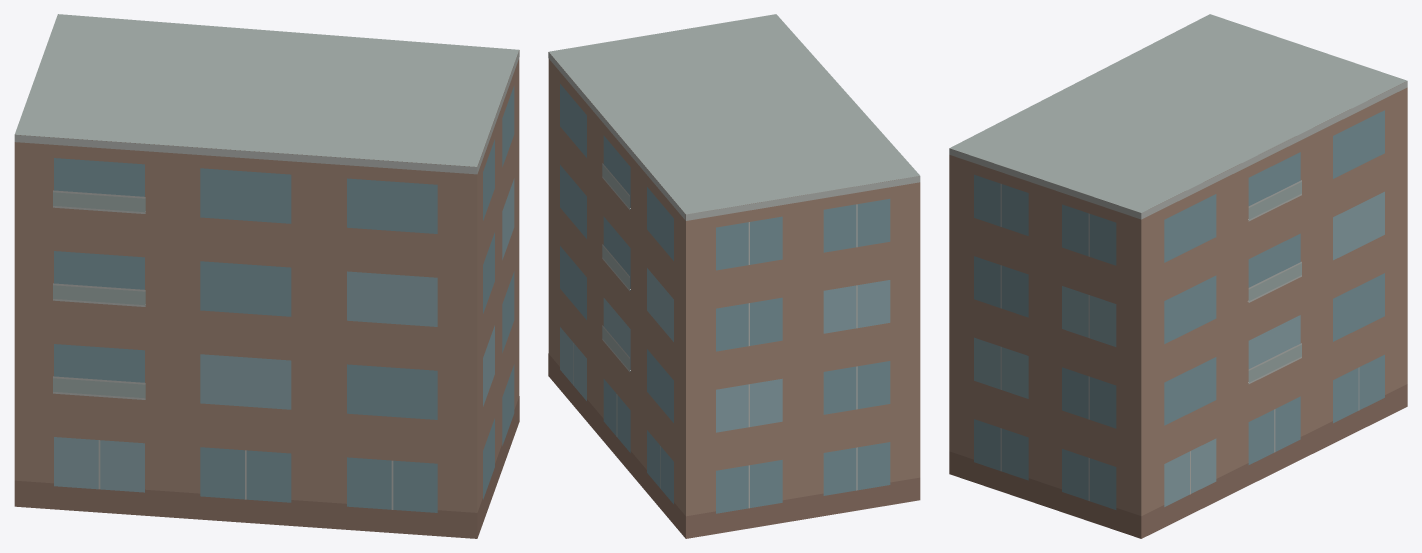
The model's file is survey-upis-32974993.glb.
3 views of the same model, side by side, from view 1: azimuth 30°, elevation 25°; view 2: azimuth 150°, elevation 25°; view 3: azimuth 270°, elevation 25° (orthographic). The views are drawn at different scales.
Visible parts, largest first — view 1: survey-upis-32974993.tmp; view 2: survey-upis-32974993.tmp; view 3: survey-upis-32974993.tmp.
Part boxes in pixels (<box>): survey-upis-32974993.tmp: <box>14,14,519,538</box>; survey-upis-32974993.tmp: <box>548,14,920,538</box>; survey-upis-32974993.tmp: <box>949,14,1407,538</box>.
Bounding box in the file's own units: 15.99 × 12.2 × 15.56.
